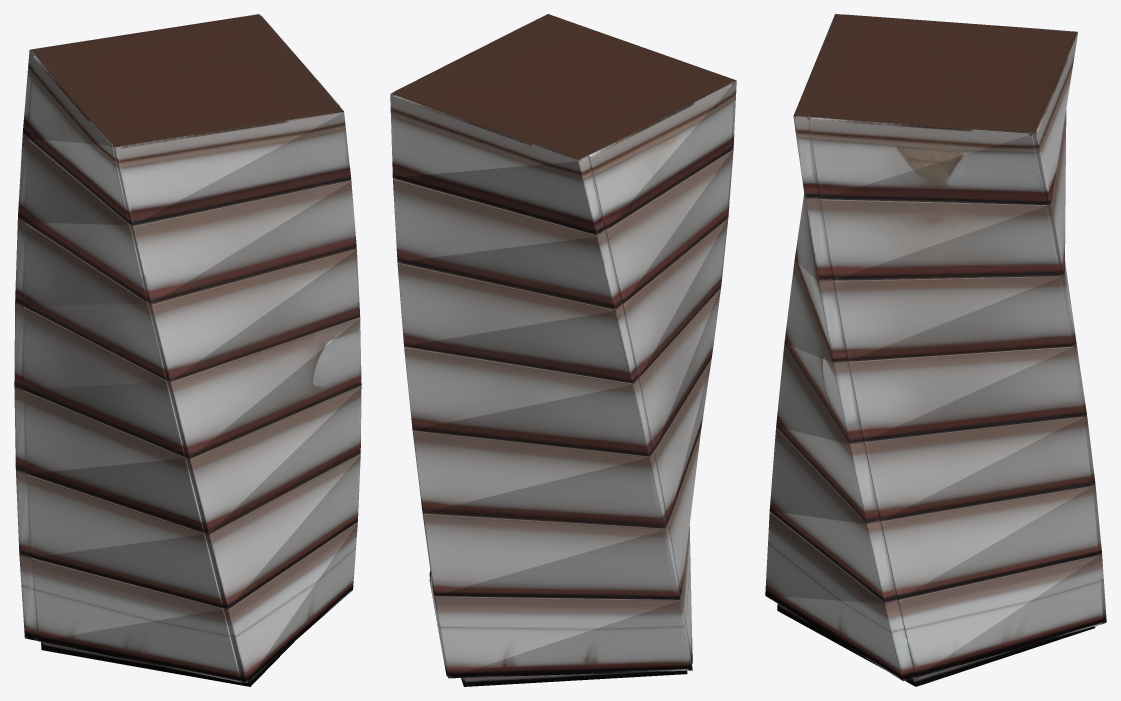
File: edited_mesh.glb
3 renders of one model, left to right at view 1: azimuth 30°, elevation 25°; view 2: azimuth 150°, elevation 25°; view 3: azimuth 270°, elevation 25°, orthographic.
Parts seen in each view (by area): view 1: normalized_model.obj; view 2: normalized_model.obj; view 3: normalized_model.obj.
Boxes of the visible parts, x1=… form: normalized_model.obj: x1=14, y1=14, x2=361, y2=686; normalized_model.obj: x1=390, y1=14, x2=736, y2=686; normalized_model.obj: x1=765, y1=14, x2=1106, y2=686.
Bounding box in the file's own units: 0.8834 × 1.56 × 0.8848.
Materials: 1 (1 with a texture image).
